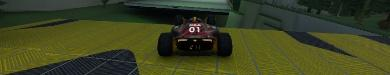Car: (156, 14, 232, 56)
grass: (0, 0, 389, 74)
obstacles-Borders: (234, 0, 389, 39)
